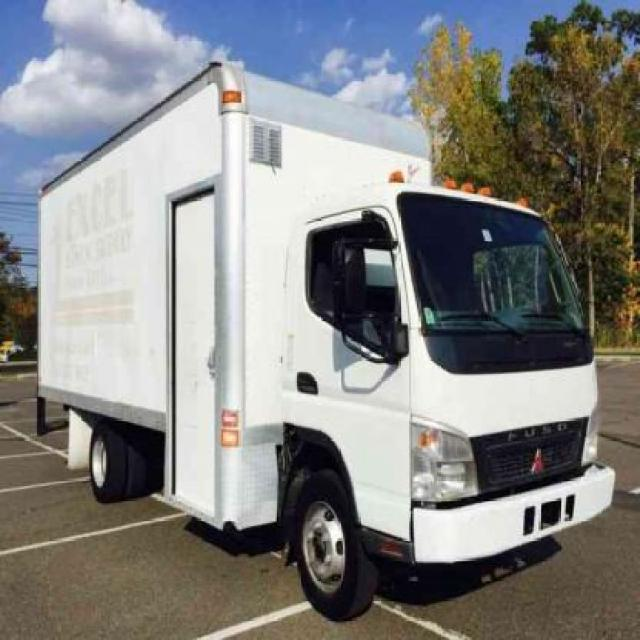truck: (35, 55, 616, 619)
